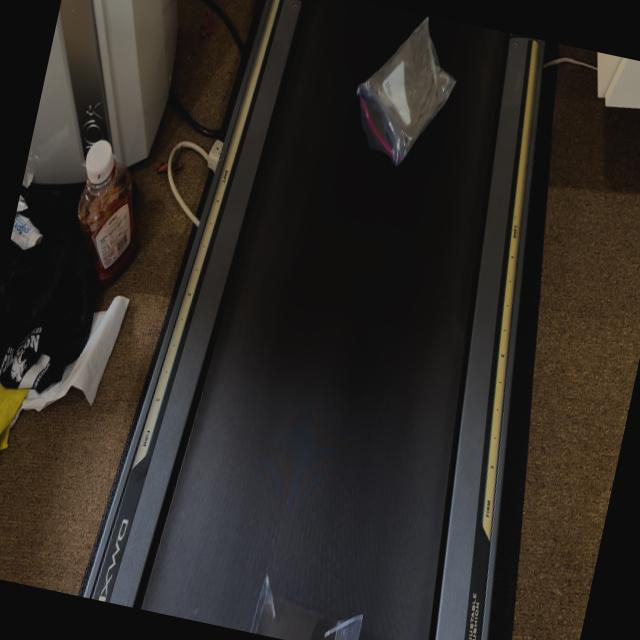Recycle: (342, 6, 470, 178), (250, 573, 369, 640)
